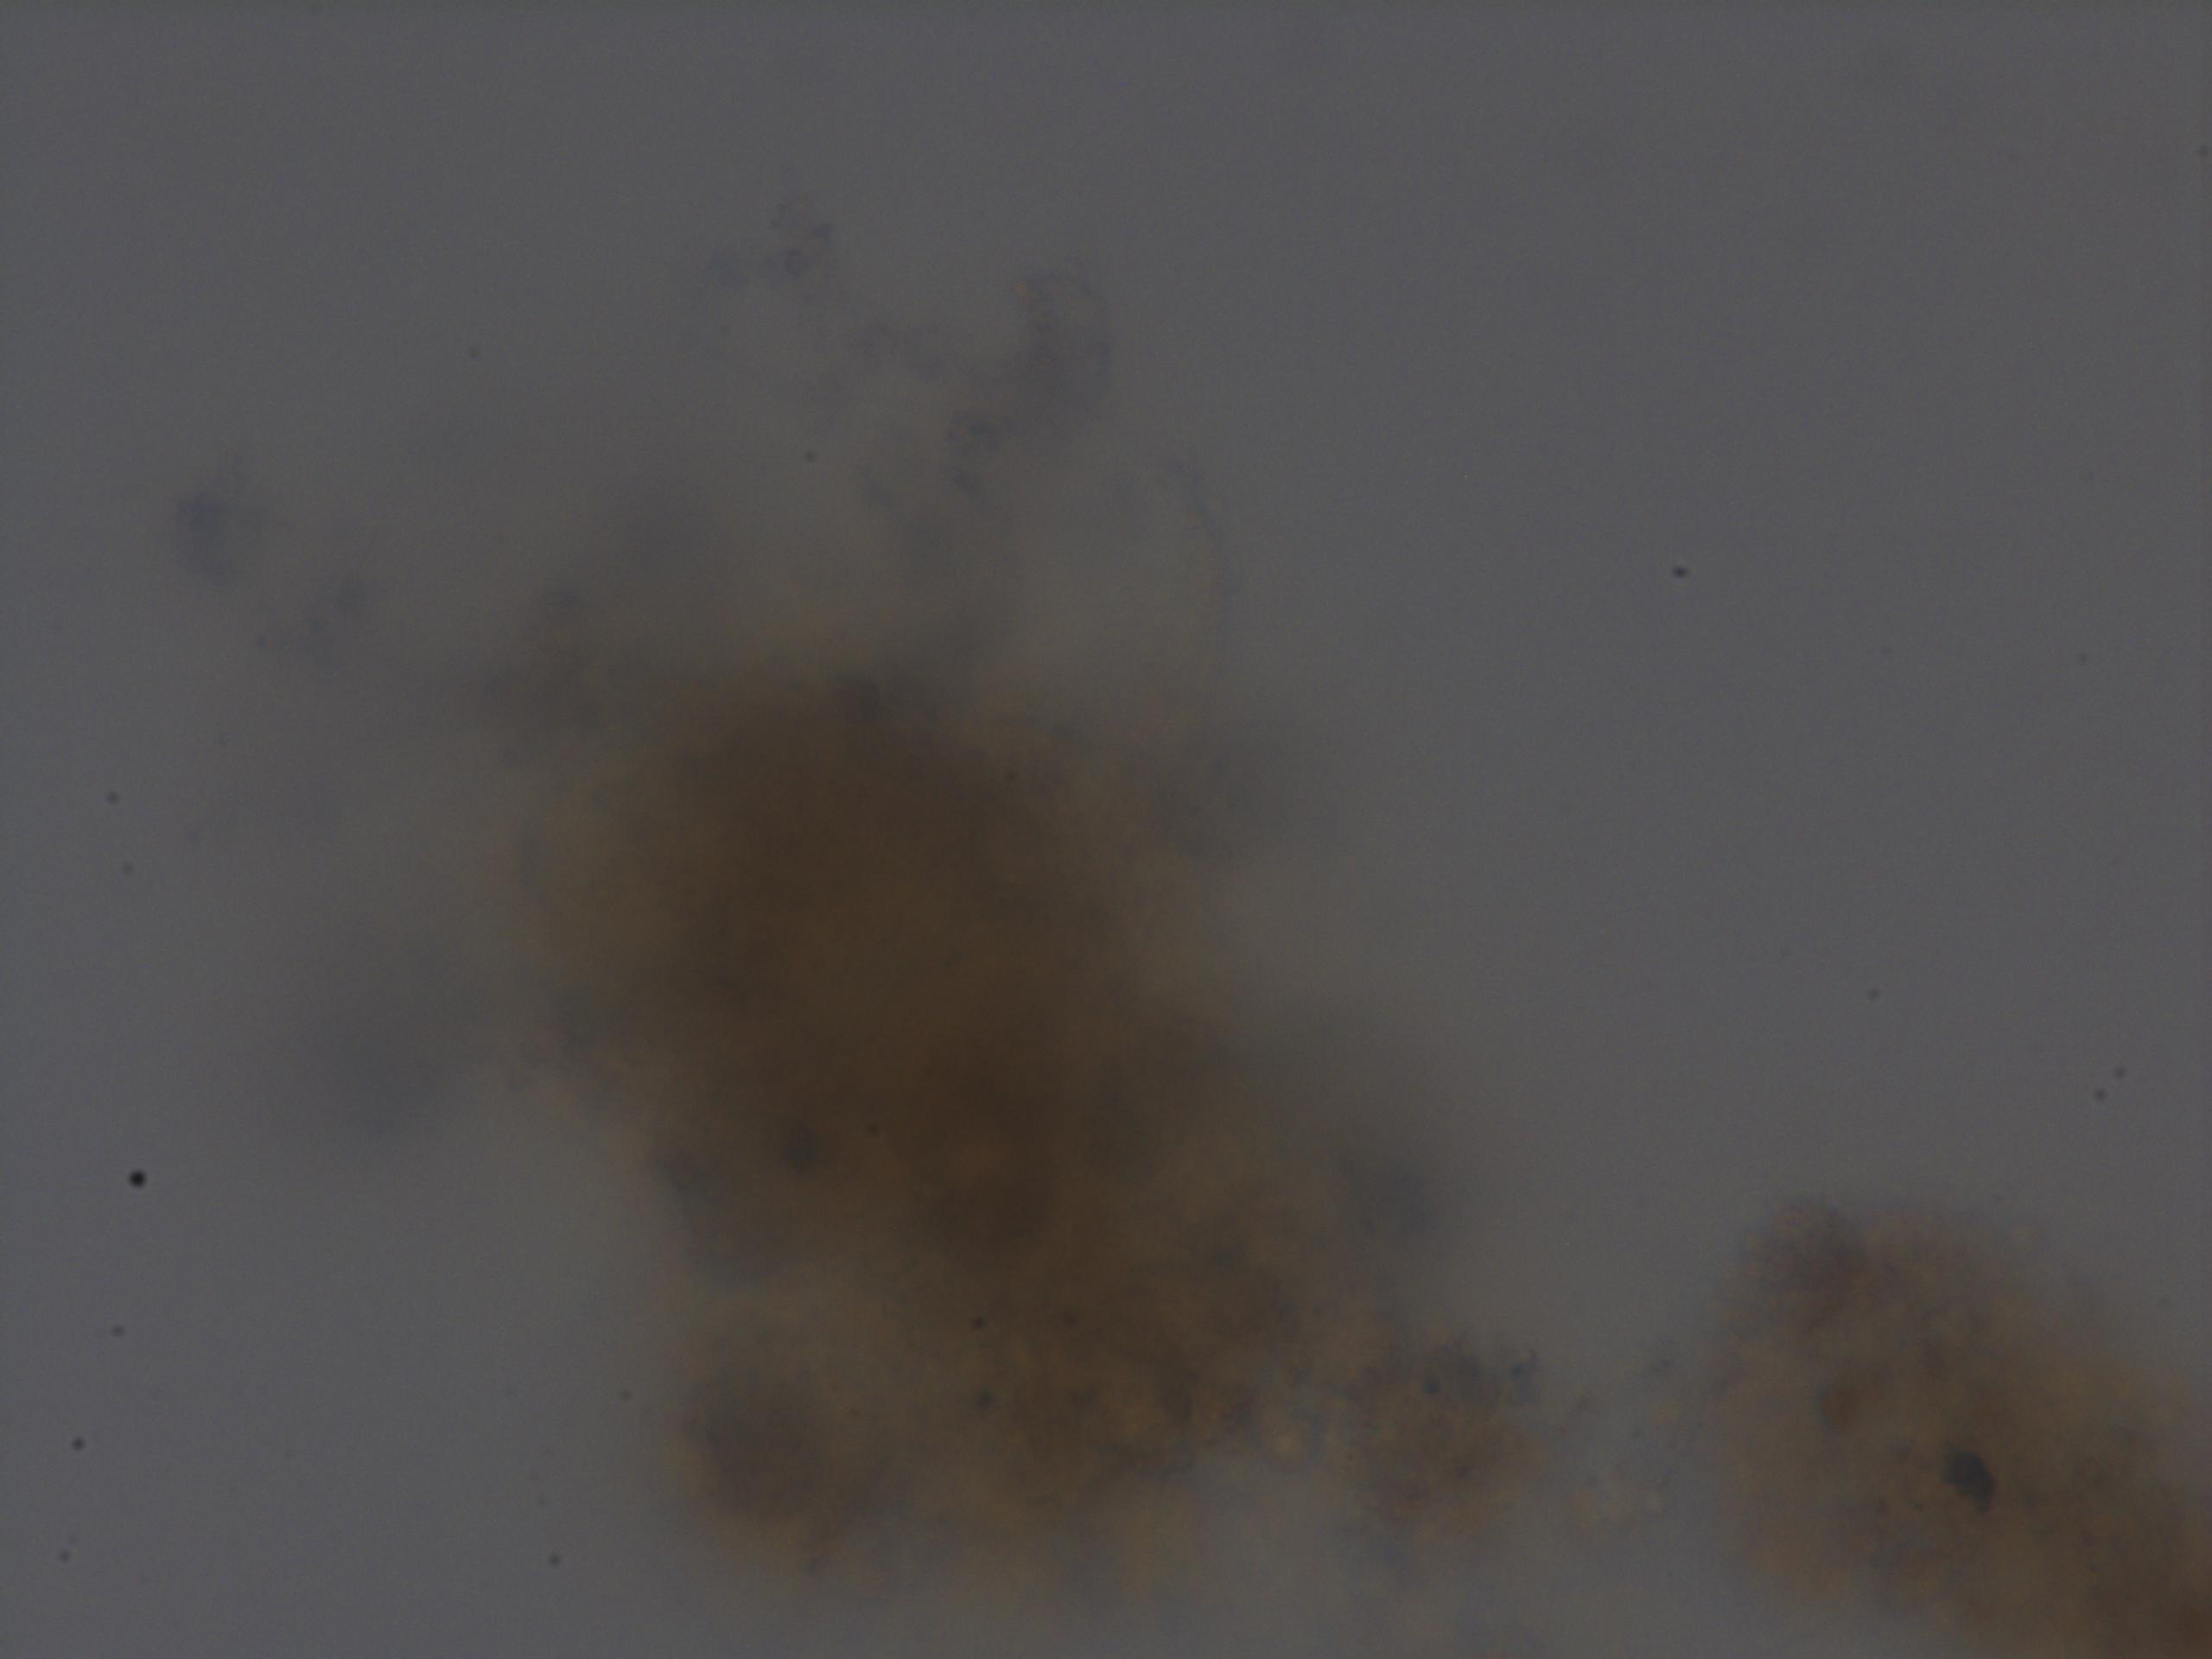spherical_floc: (442, 640, 1569, 1593)
